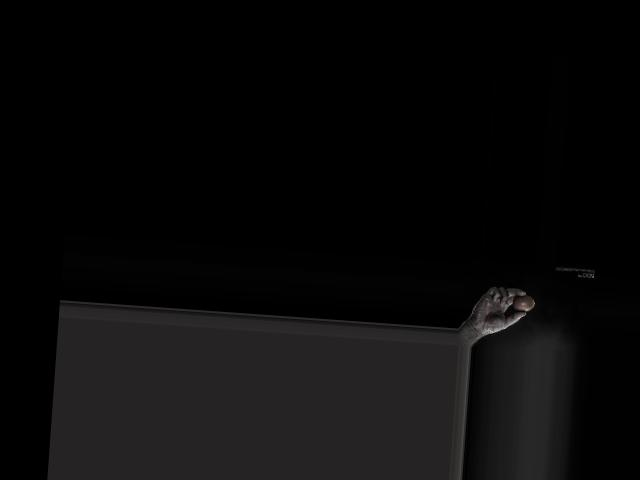egg: (511, 294, 534, 312)
